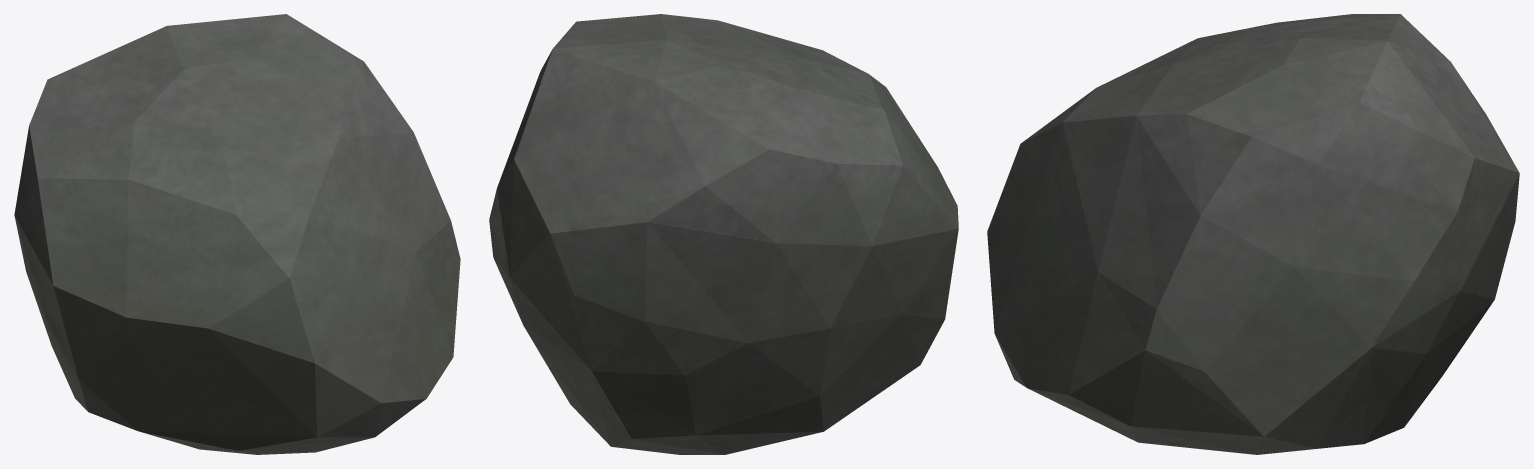
File: Rock_Round_02.FBX
3 views of the same model, side by side, from view 1: azimuth 30°, elevation 25°; view 2: azimuth 150°, elevation 25°; view 3: azimuth 270°, elevation 25° (orthographic). The views are drawn at different scales.
Parts seen in each view (by area): view 1: Rock_Round_02; view 2: Rock_Round_02; view 3: Rock_Round_02.
Part boxes in pixels (box(x1,y1,x2,y2)): Rock_Round_02: box(14, 14, 460, 454); Rock_Round_02: box(489, 14, 958, 454); Rock_Round_02: box(987, 14, 1519, 454).
Bounding box in the file's own units: 92.14 × 103 × 83.83.
